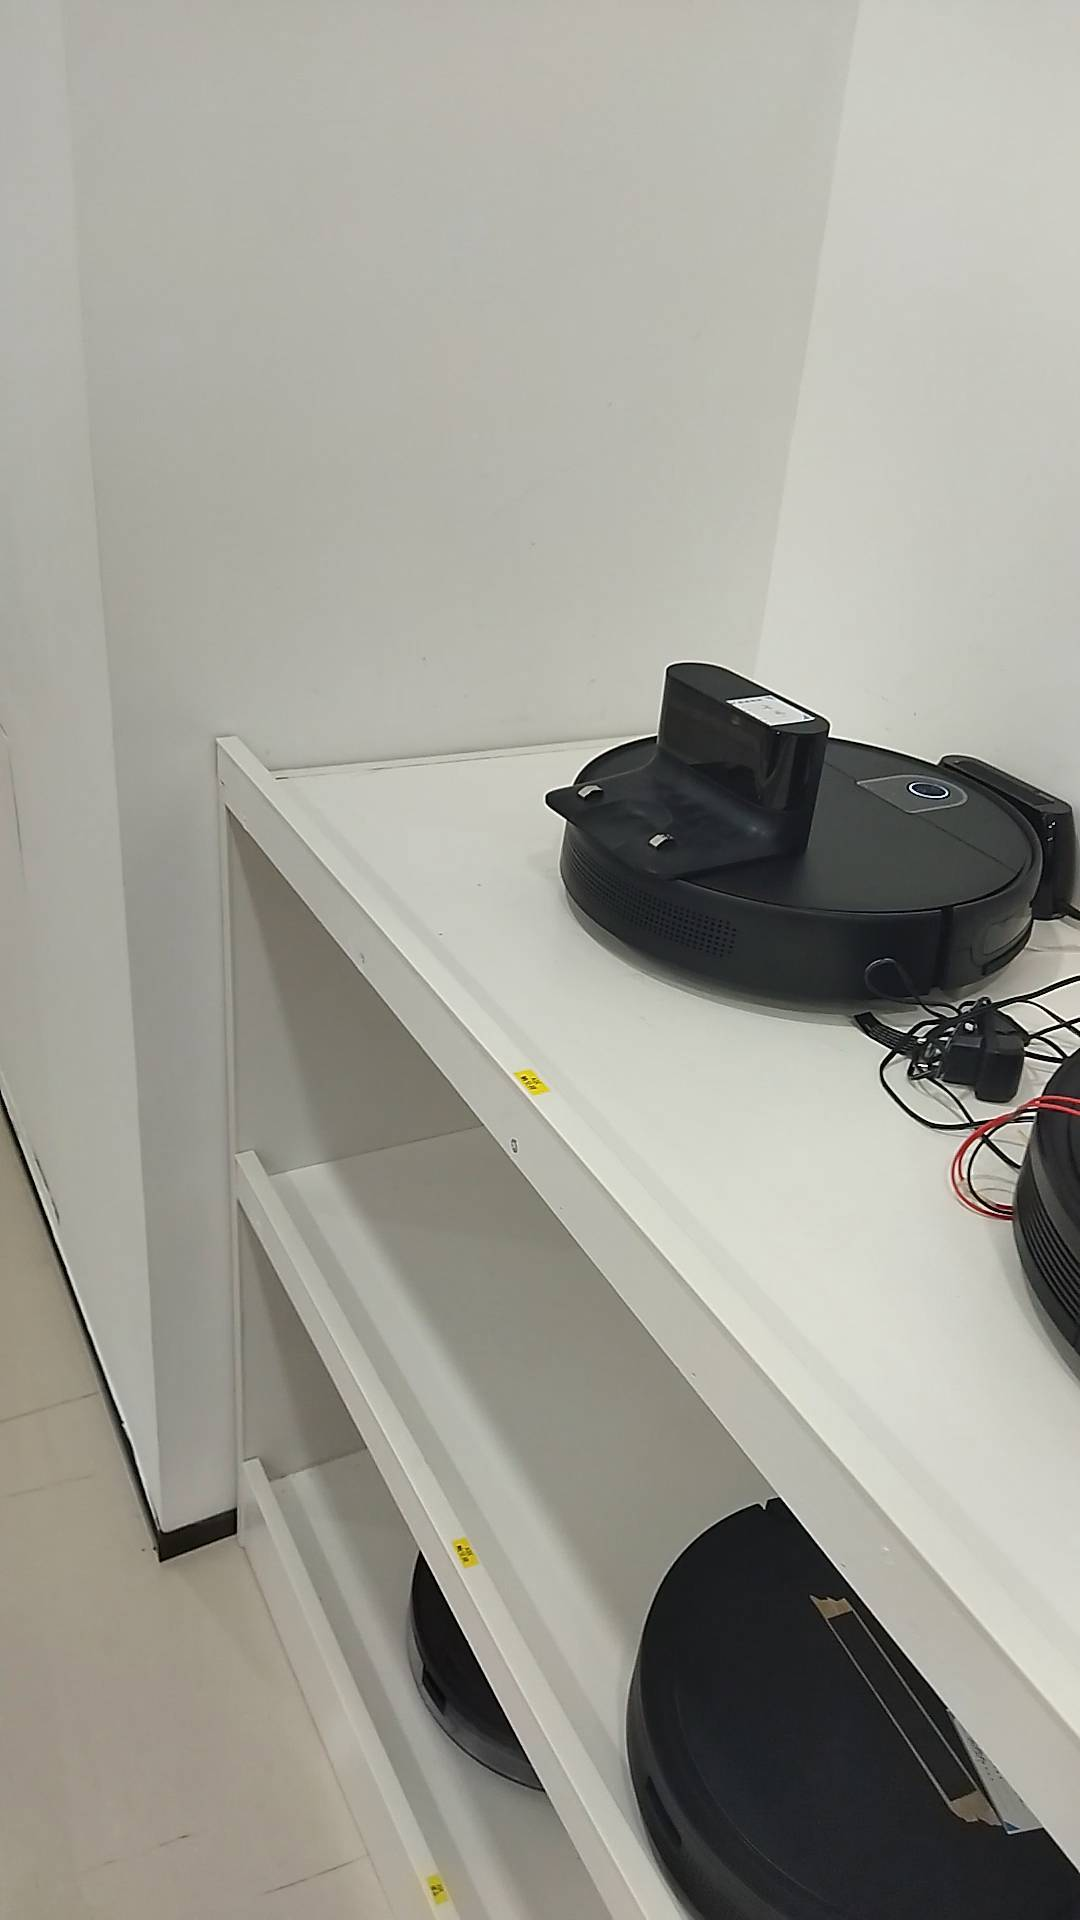recharge seat: (549, 661, 833, 881)
